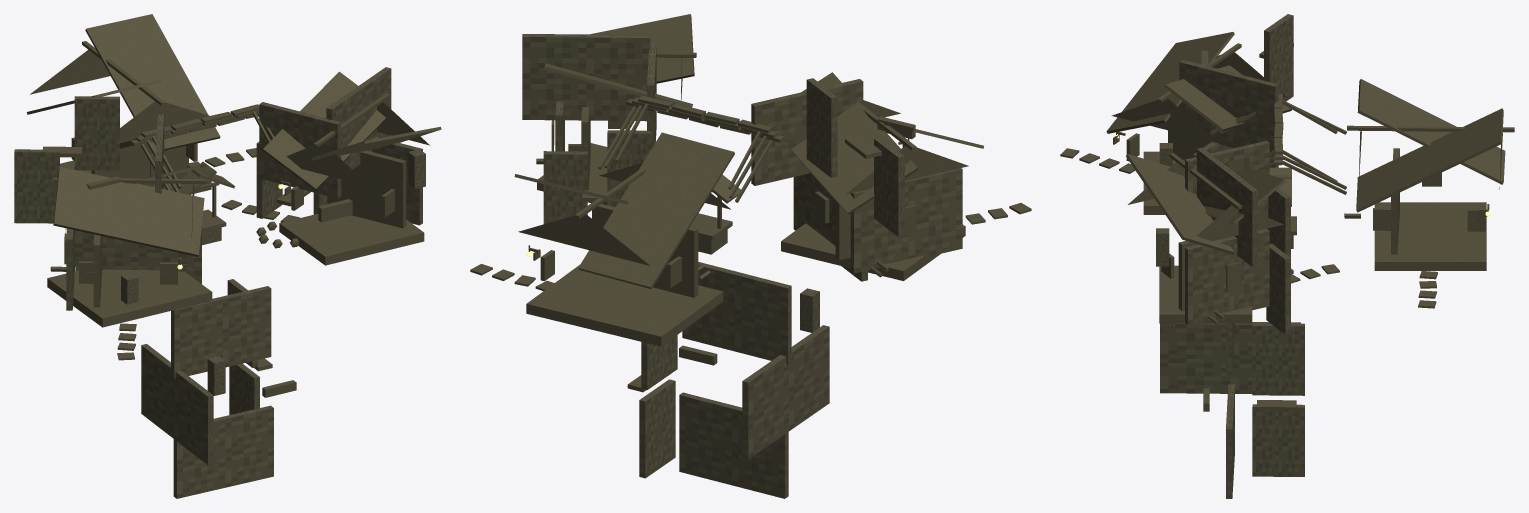
File: work_1674_hamlet.glb
3 views of the same model, side by side, from view 1: azimuth 30°, elevation 25°; view 2: azimuth 150°, elevation 25°; view 3: azimuth 270°, elevation 25° (orthographic). The views are drawn at different scales.
Visible parts, largest first — view 1: /_l$/_0, /_l$/_1, /_l$/_2; view 2: /_l$/_1, /_l$/_0, /_l$/_2; view 3: /_l$/_1, /_l$/_0, /_l$/_2.
Boxes of the visible parts, box(x1,y1,x2,y2) form: /_l$/_0: box(27, 14, 441, 371); /_l$/_1: box(14, 67, 425, 498); /_l$/_2: box(30, 49, 429, 397); /_l$/_1: box(522, 34, 962, 498); /_l$/_0: box(470, 14, 1031, 392); /_l$/_2: box(518, 58, 968, 365); /_l$/_1: box(1156, 14, 1360, 498); /_l$/_0: box(1060, 32, 1514, 410); /_l$/_2: box(1111, 50, 1502, 411).
Bounding box in the file's own units: 13.82 × 13.4 × 13.74.
Materials: 4 (3 with a texture image).
